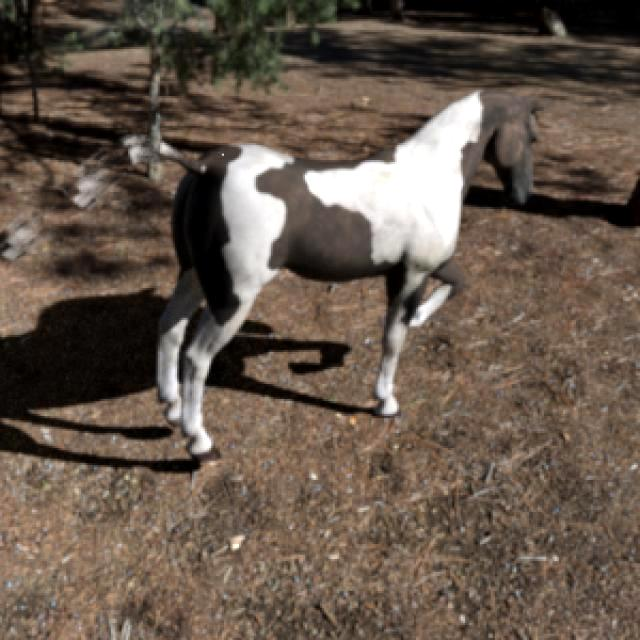horse: (159, 91, 536, 461), (72, 155, 117, 207), (120, 136, 149, 164)
